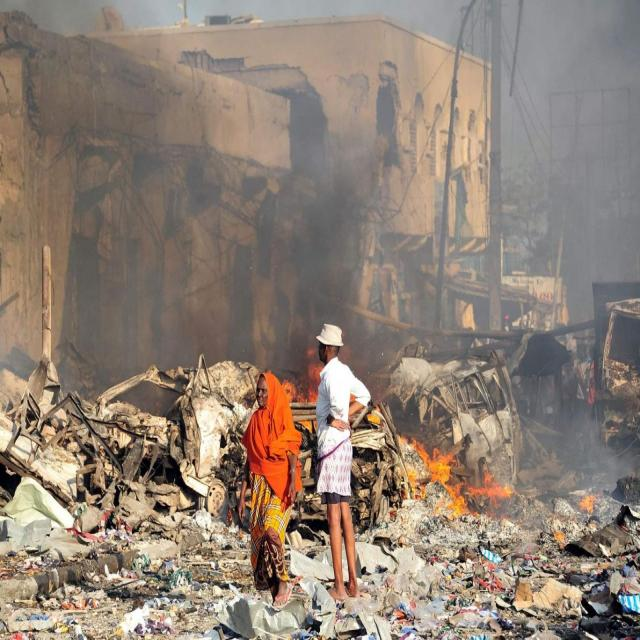fire: (400, 436, 508, 520), (578, 491, 597, 516)
smoke: (517, 8, 635, 474), (84, 148, 376, 320)
